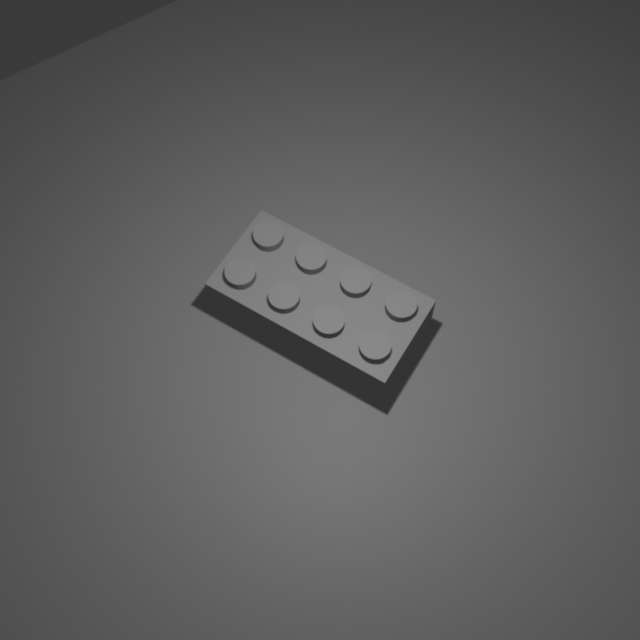lego_2x4: (204, 204, 437, 407)
